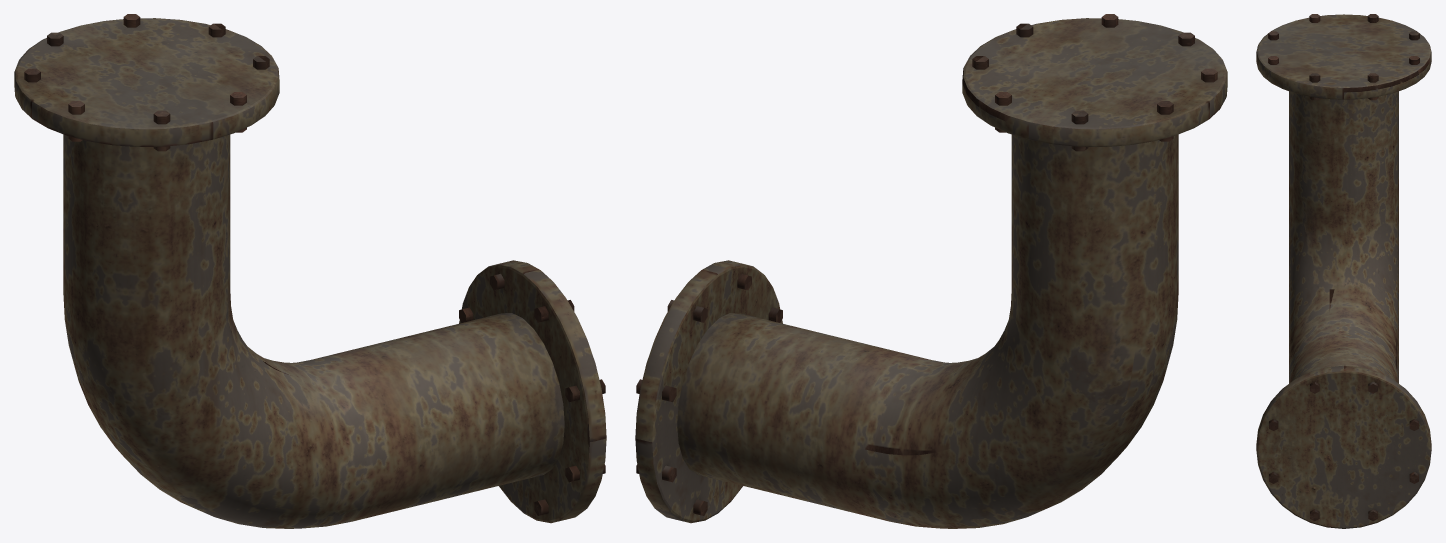
File: Pipe_Large_Elbow.fbx
3 views of the same model, side by side, from view 1: azimuth 30°, elevation 25°; view 2: azimuth 150°, elevation 25°; view 3: azimuth 270°, elevation 25° (orthographic). The views are drawn at different scales.
Parts seen in each view (by area): view 1: Pipe_Large_Elbow_Mesh; view 2: Pipe_Large_Elbow_Mesh; view 3: Pipe_Large_Elbow_Mesh.
Part boxes in pixels (x1=…): Pipe_Large_Elbow_Mesh: x1=14, y1=14, x2=606, y2=528; Pipe_Large_Elbow_Mesh: x1=635, y1=14, x2=1227, y2=528; Pipe_Large_Elbow_Mesh: x1=1256, y1=14, x2=1431, y2=528.
Bounding box in the file's own units: 0.786 × 0.786 × 0.35.
